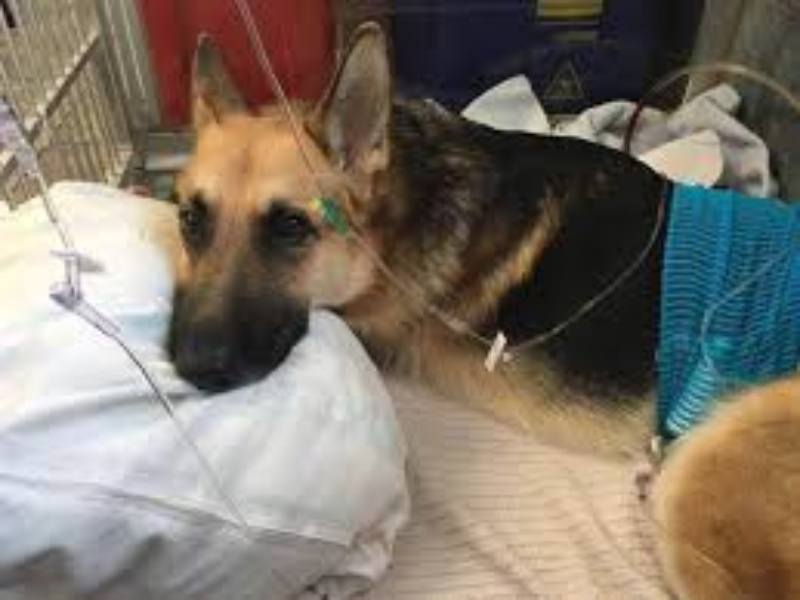dog: (168, 23, 788, 557)
